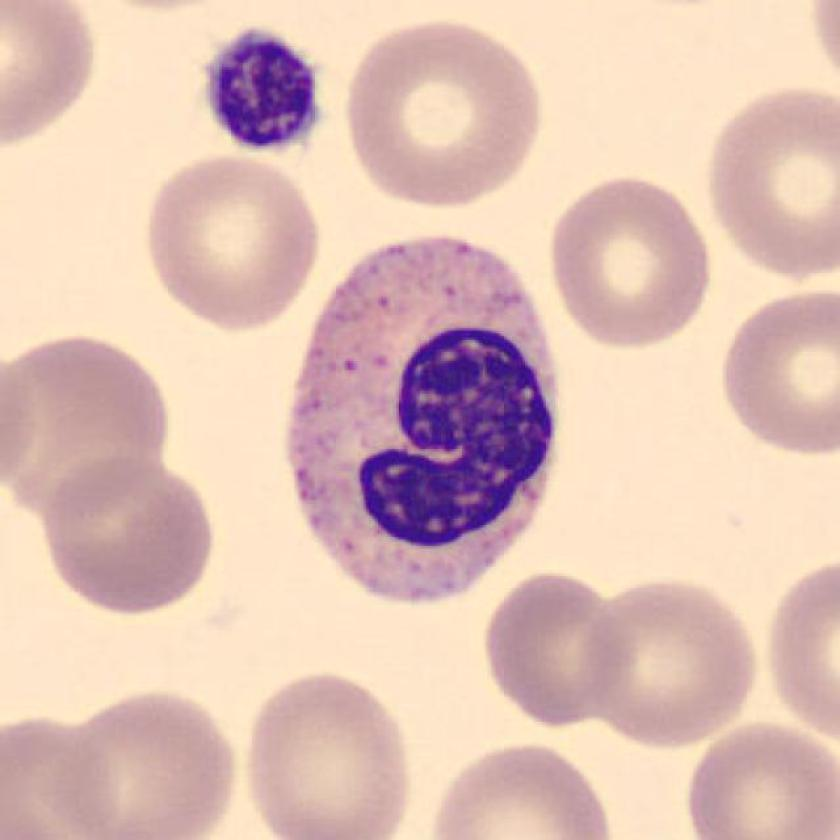neutrophil: (287, 240, 558, 602)
